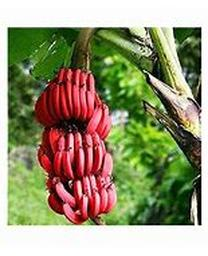banana: (34, 67, 119, 221)
